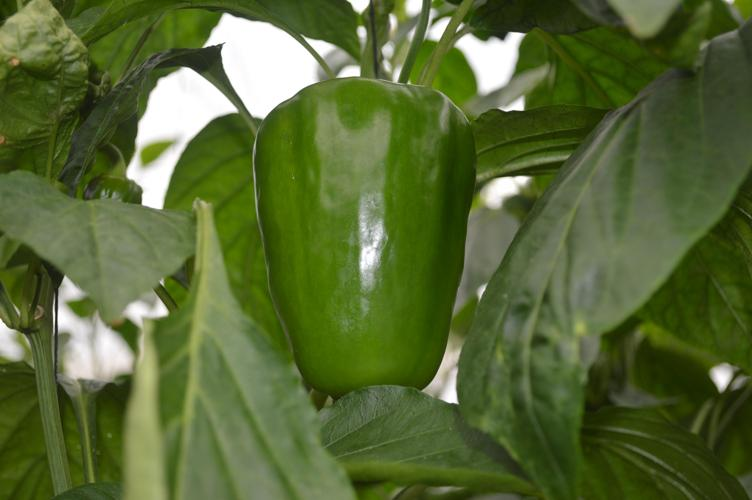BellPepper: (252, 77, 476, 397)
